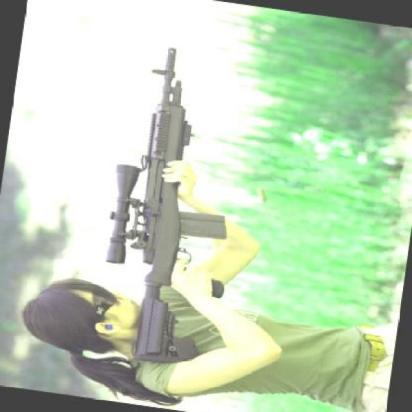Gun: (82, 37, 253, 372)
